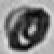correct: (5, 2, 52, 51)
